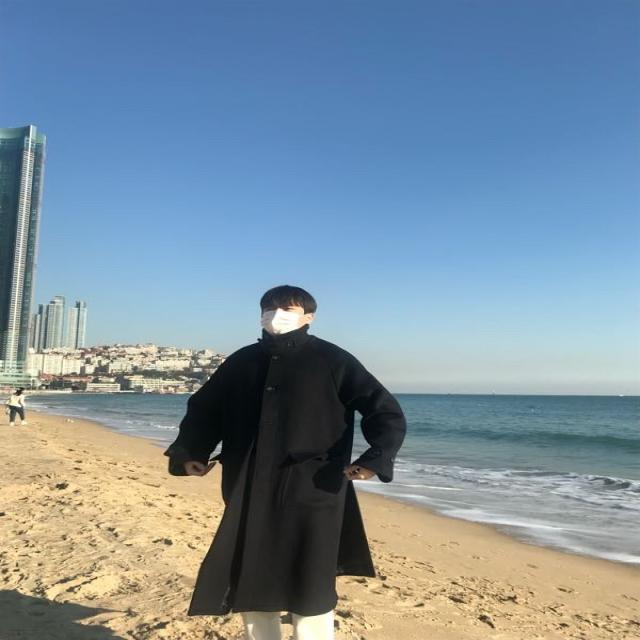coat: (160, 322, 405, 617)
cottonpants: (240, 607, 336, 640)
